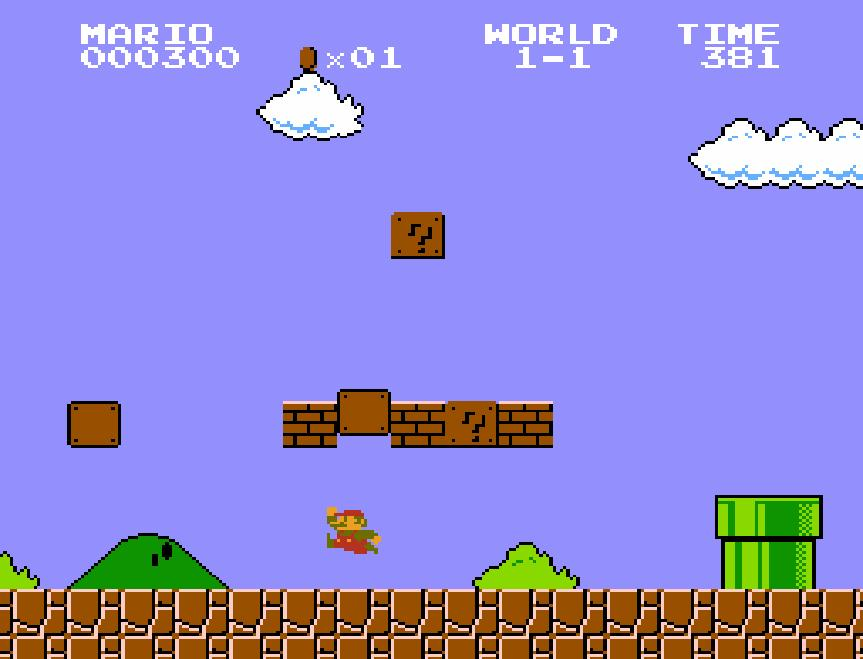little_mario: (324, 506, 382, 556)
